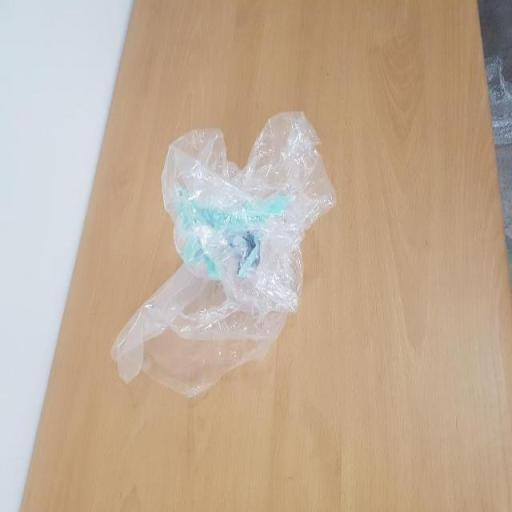plastic-bag: (107, 103, 336, 399)
